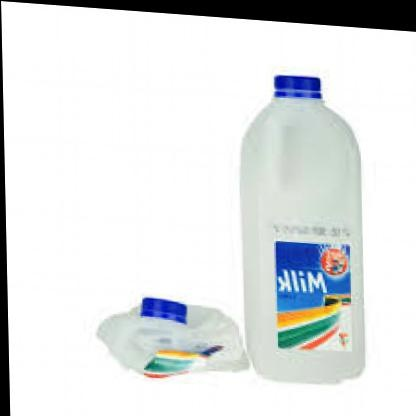trash: (241, 75, 364, 381), (97, 298, 248, 376)
